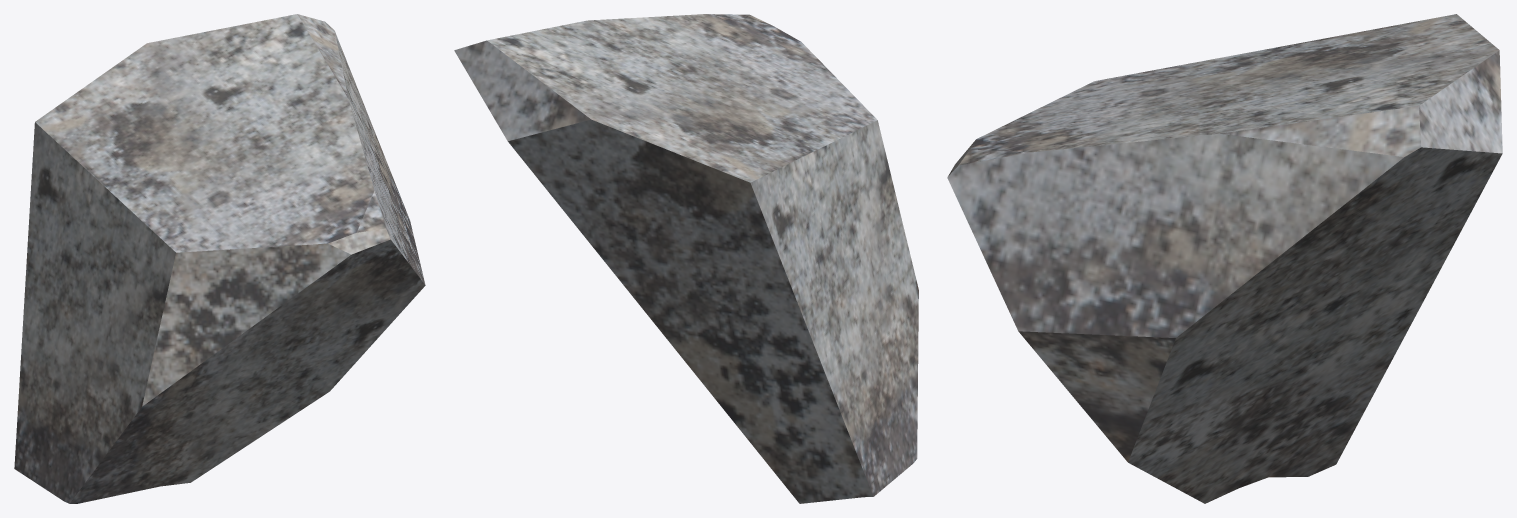
Rendered from Asteroid_Large_001_02_002_03_022.fbx.
3 views of the same model, side by side, from view 1: azimuth 30°, elevation 25°; view 2: azimuth 150°, elevation 25°; view 3: azimuth 270°, elevation 25° (orthographic). The views are drawn at different scales.
Parts seen in each view (by area): view 1: Asteroid_Large_001_02_002_03_022; view 2: Asteroid_Large_001_02_002_03_022; view 3: Asteroid_Large_001_02_002_03_022.
Boxes of the visible parts, x1,y1,x2,y2 form: Asteroid_Large_001_02_002_03_022: [14, 14, 425, 503]; Asteroid_Large_001_02_002_03_022: [454, 14, 918, 503]; Asteroid_Large_001_02_002_03_022: [947, 14, 1502, 503].
Bounding box in the file's own units: 8 × 8.35 × 7.82.
